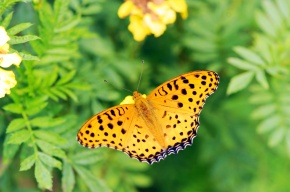Argyreus hyperbius: (72, 57, 224, 164)
butterfly: (74, 59, 226, 166)
